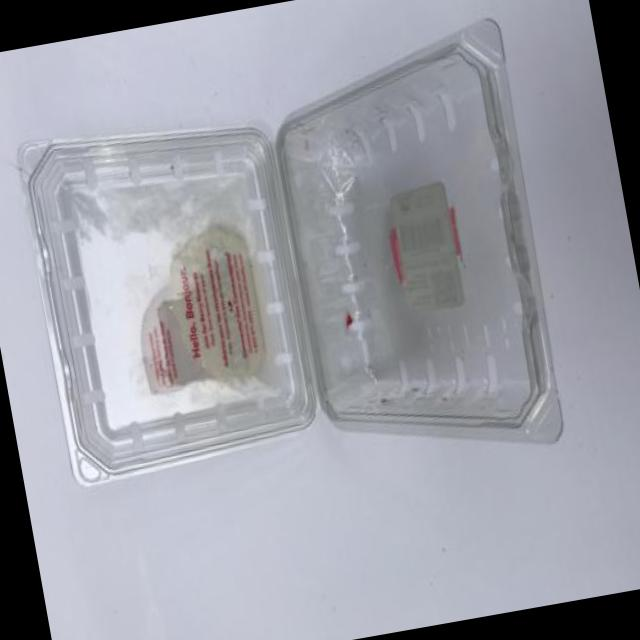Clamshell: (0, 0, 587, 546)
Label: (102, 201, 271, 406), (364, 162, 486, 334)
